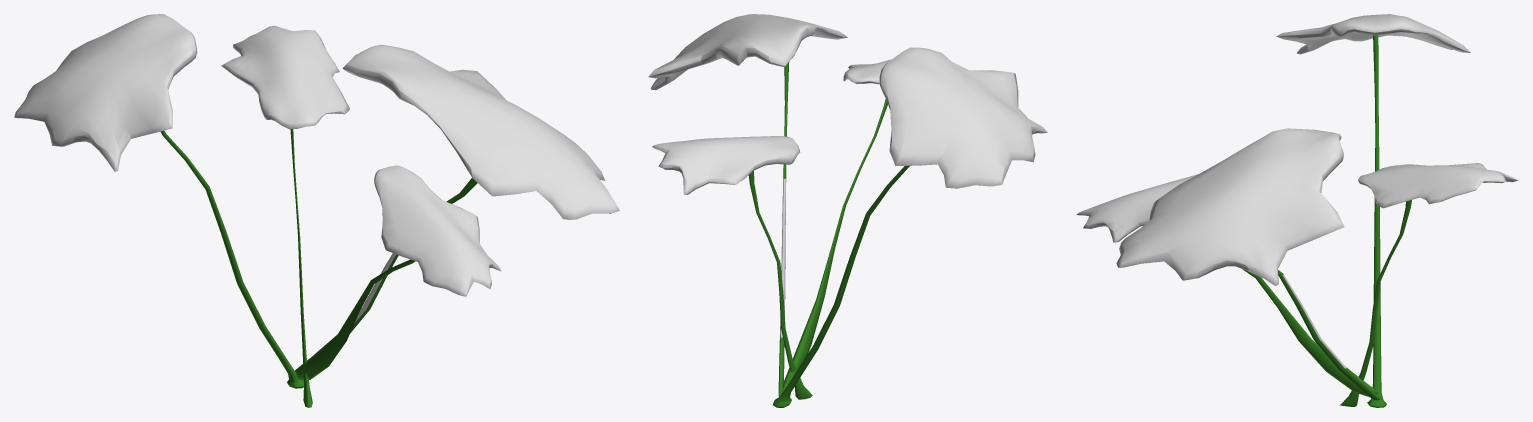
The model's file is plant1.glb.
3 views of the same model, side by side, from view 1: azimuth 30°, elevation 25°; view 2: azimuth 150°, elevation 25°; view 3: azimuth 270°, elevation 25° (orthographic). The views are drawn at different scales.
Parts seen in each view (by area): view 1: Plant01; view 2: Plant01; view 3: Plant01.
Part boxes in pixels (<box>): Plant01: <box>14,14,619,407</box>; Plant01: <box>648,14,1047,407</box>; Plant01: <box>1076,14,1518,407</box>.
Size of the model in its own units: 1.61 by 1.35 by 1.61.
